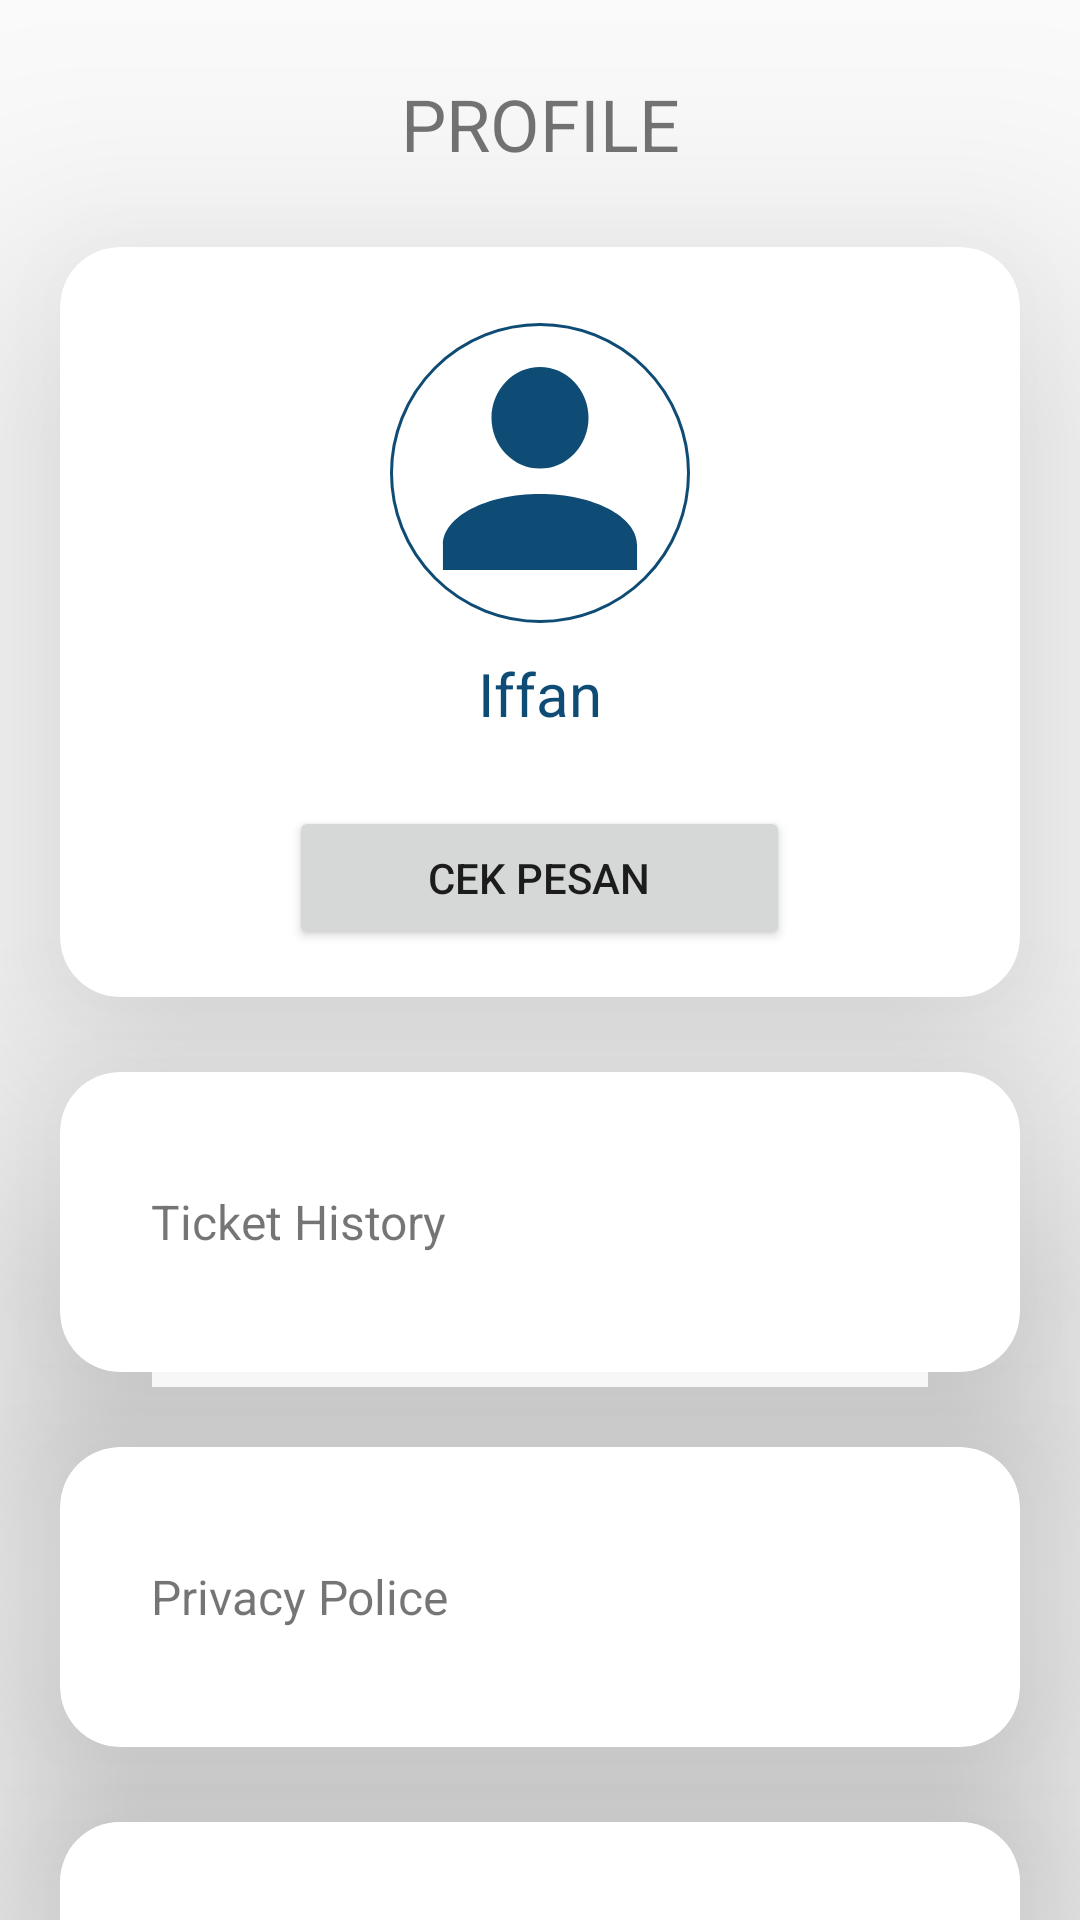

Where to tap for icons on this 1080*1920 app screen, as [x,y]:
profile: [540,473]
